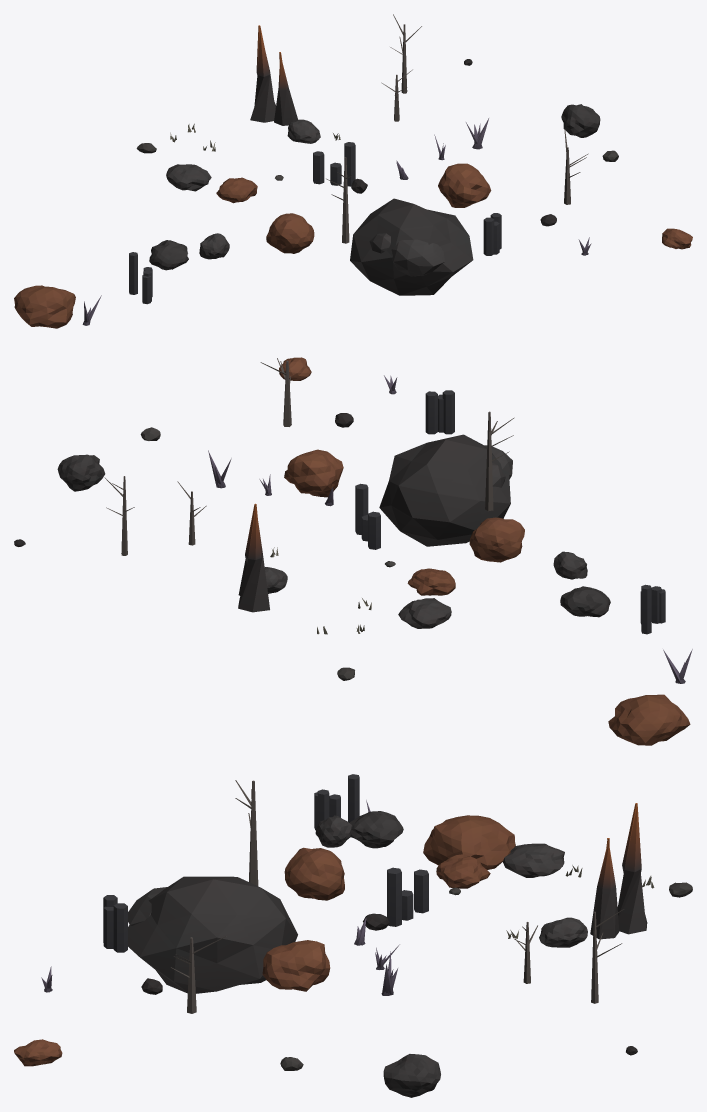
The model's file is ash_land_scatter_c13_29.glb.
3 renders of one model, top to bottom at view 1: azimuth 30°, elevation 25°; view 2: azimuth 150°, elevation 25°; view 3: azimuth 270°, elevation 25°, orthographic. The views are drawn at different scales.
Parts seen in each view (by area): view 1: ash_land_scatter_c13_29; view 2: ash_land_scatter_c13_29; view 3: ash_land_scatter_c13_29.
Part boxes in pixels (x1=…): ash_land_scatter_c13_29: x1=14, y1=14, x2=692, y2=328; ash_land_scatter_c13_29: x1=14, y1=357, x2=692, y2=745; ash_land_scatter_c13_29: x1=14, y1=774, x2=692, y2=1097.
Bounding box in the file's own units: 59.36 × 18.62 × 47.38.
